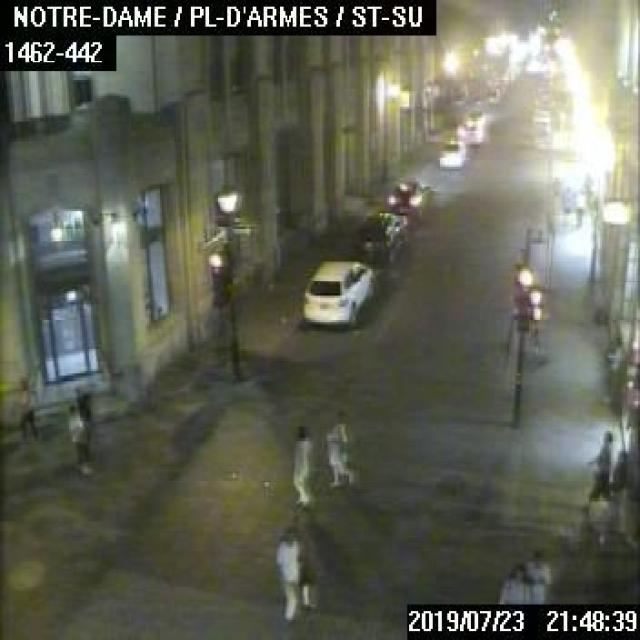pedestrian: (271, 522, 312, 620), (604, 446, 638, 549), (64, 382, 95, 476), (583, 427, 614, 519), (286, 422, 315, 508), (323, 407, 353, 484), (13, 371, 36, 440), (497, 562, 528, 603), (528, 548, 550, 603), (574, 189, 584, 225), (561, 185, 569, 225)
vehicle: (298, 259, 377, 327), (351, 210, 407, 266), (385, 177, 431, 221), (454, 110, 486, 143), (433, 136, 464, 169)
